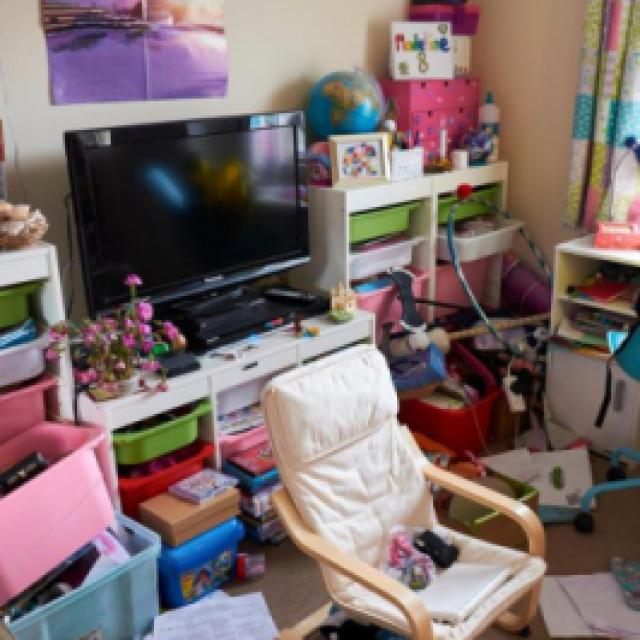mess: (310, 62, 640, 548), (0, 337, 306, 640)
